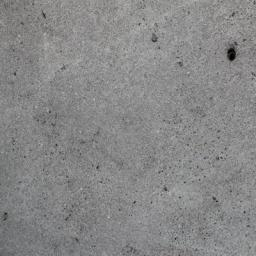FOD: (227, 47, 241, 65)
